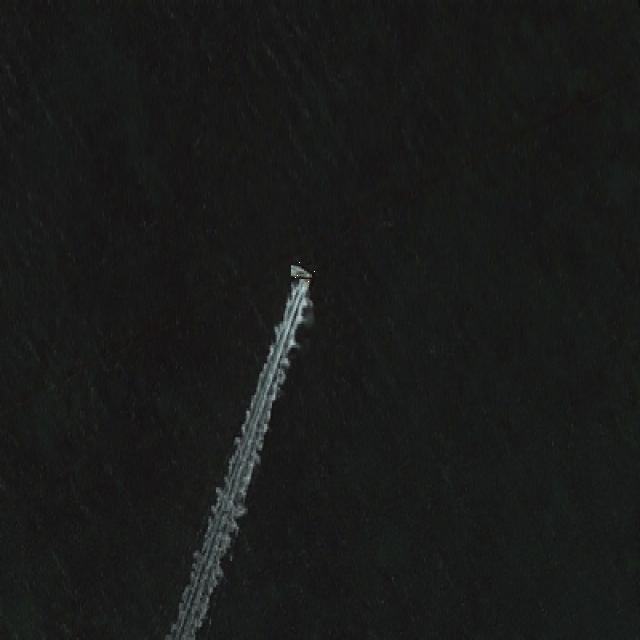boat: (294, 262, 316, 283)
